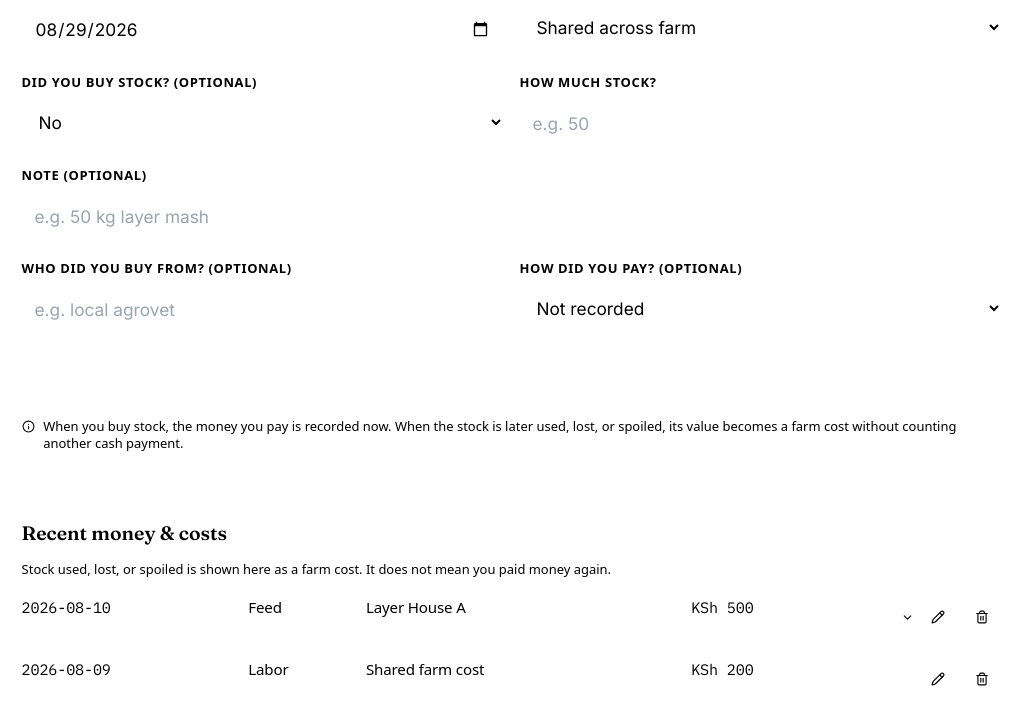
Scenario: ExpensesView — expandable rows with optional detail › an expense with no extra detail says so, rather than showing an empty panel
The width and height of the screenshot is (1024, 710).
(page scrolled)
Click the text "KSh 200".
click(66, 670)  # box [0,648,1023,709]
(page scrolled)
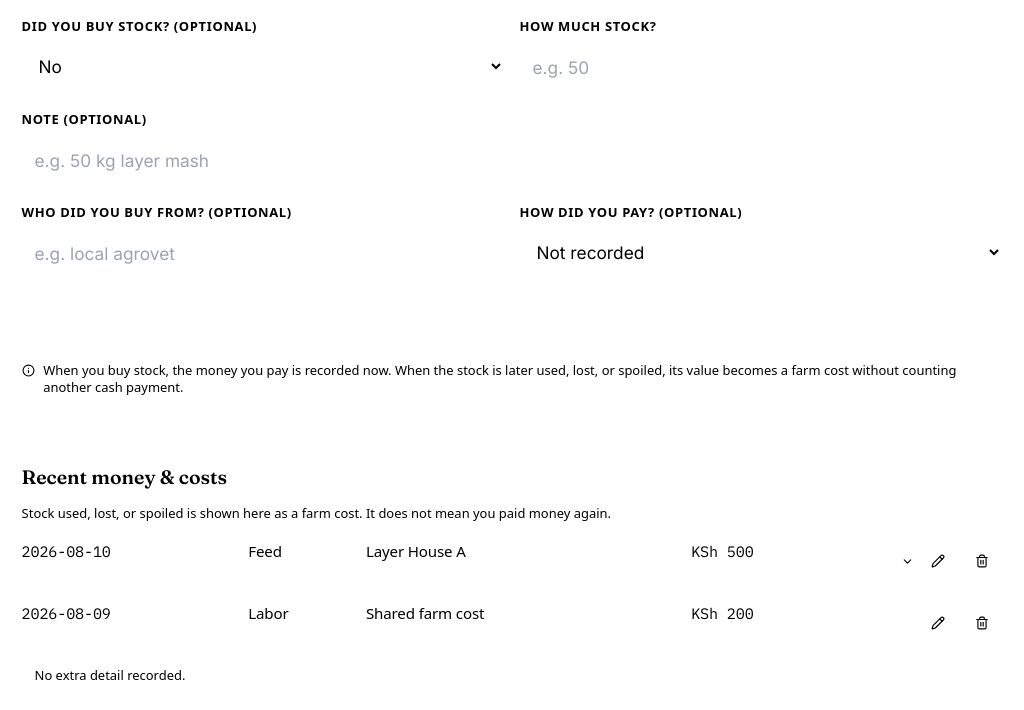
Expected: the text "No extra detail recorded." is shown, [34,666,185,684]
